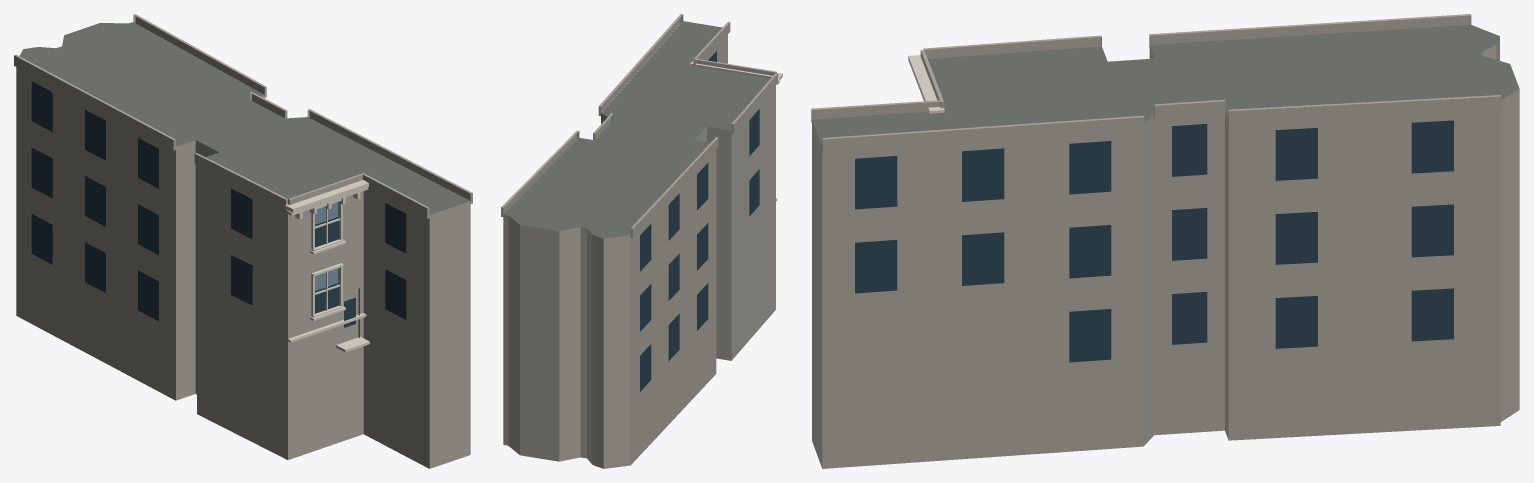
The picture shows the model from 3 angles, left to right: view 1: azimuth 30°, elevation 25°; view 2: azimuth 150°, elevation 25°; view 3: azimuth 270°, elevation 25°; orthographic projection. The views are drawn at different scales.
Visible parts, largest first — view 1: Footprint 0 / surface 2, Footprint 0 / surface 1, Inset glazing, Facade bay volumes, Cornices and window frames, Sky reflection panels; view 2: Footprint 0 / surface 2, Footprint 0 / surface 1, Inset glazing, Facade bay volumes; view 3: Footprint 0 / surface 2, Footprint 0 / surface 1, Inset glazing, Facade bay volumes, Cornices and window frames.
Part boxes in pixels (x1=…): Footprint 0 / surface 2: x1=16, y1=67, x2=470, y2=468; Footprint 0 / surface 1: x1=19, y1=22, x2=470, y2=214; Inset glazing: x1=31, y1=81, x2=406, y2=327; Facade bay volumes: x1=14, y1=14, x2=472, y2=218; Cornices and window frames: x1=285, y1=180, x2=369, y2=352; Sky reflection panels: x1=315, y1=202, x2=338, y2=290; Footprint 0 / surface 2: x1=503, y1=34, x2=775, y2=468; Footprint 0 / surface 1: x1=504, y1=21, x2=770, y2=238; Inset glazing: x1=640, y1=51, x2=759, y2=391; Facade bay volumes: x1=501, y1=14, x2=778, y2=238; Footprint 0 / surface 2: x1=812, y1=37, x2=1519, y2=468; Footprint 0 / surface 1: x1=812, y1=25, x2=1519, y2=146; Inset glazing: x1=855, y1=120, x2=1453, y2=362; Facade bay volumes: x1=811, y1=14, x2=1500, y2=152; Cornices and window frames: x1=908, y1=55, x2=944, y2=113.
Size of the model in its own units: 10.08 by 12.39 by 24.02.
